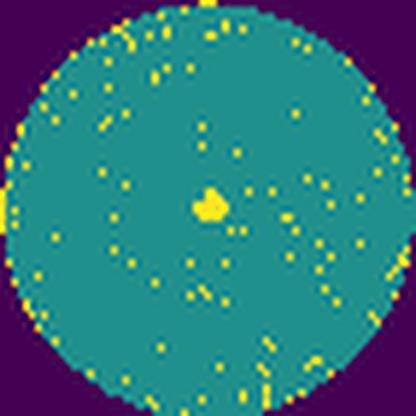Center: (192, 186, 230, 223)
